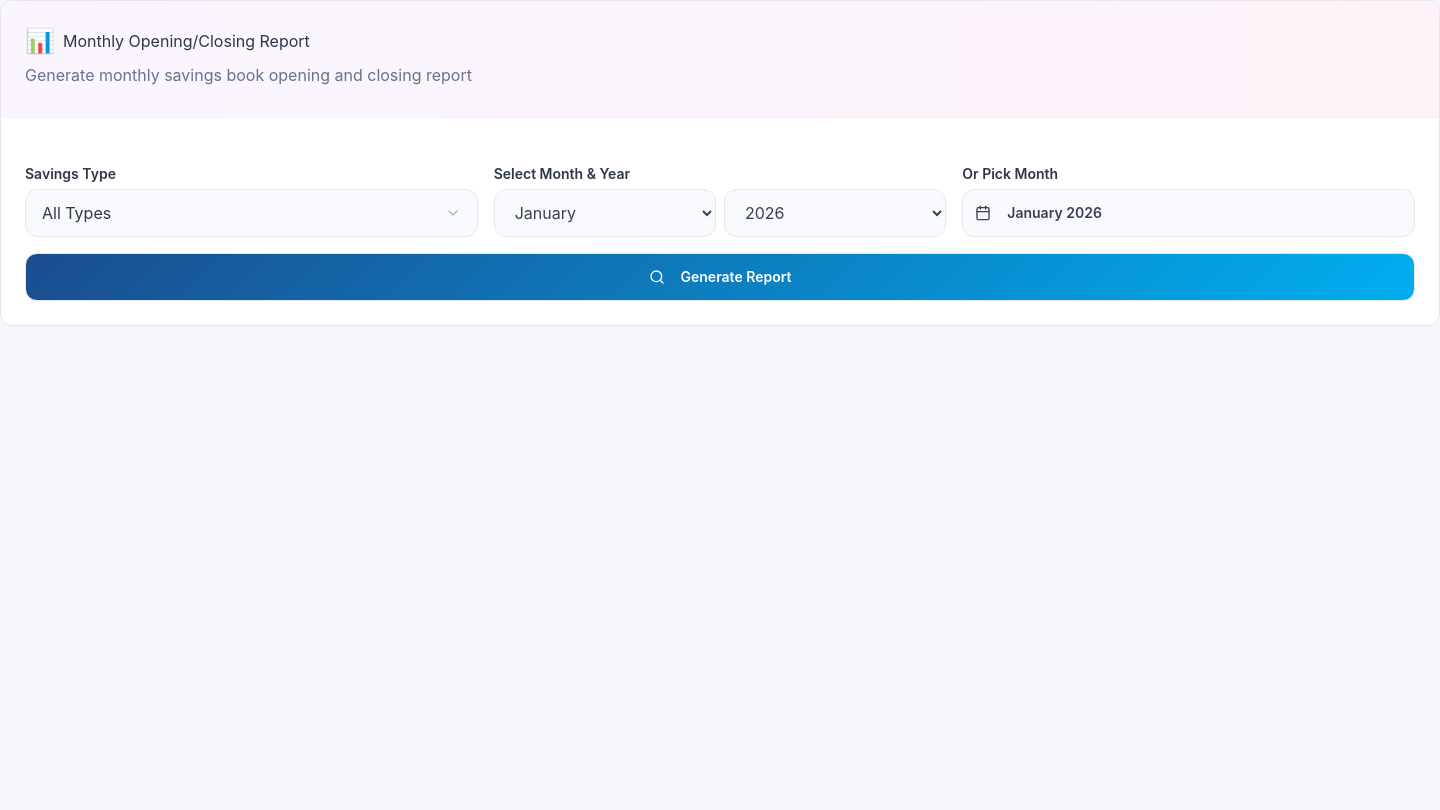
it: UC10 - Monthly Open/Close Report › C) Loading State › should disable Generate button while loading
The image size is (1440, 810).
Step 1. Click the button "Generate Report" → (720, 277), box x1=25 y1=253 x2=1415 y2=301
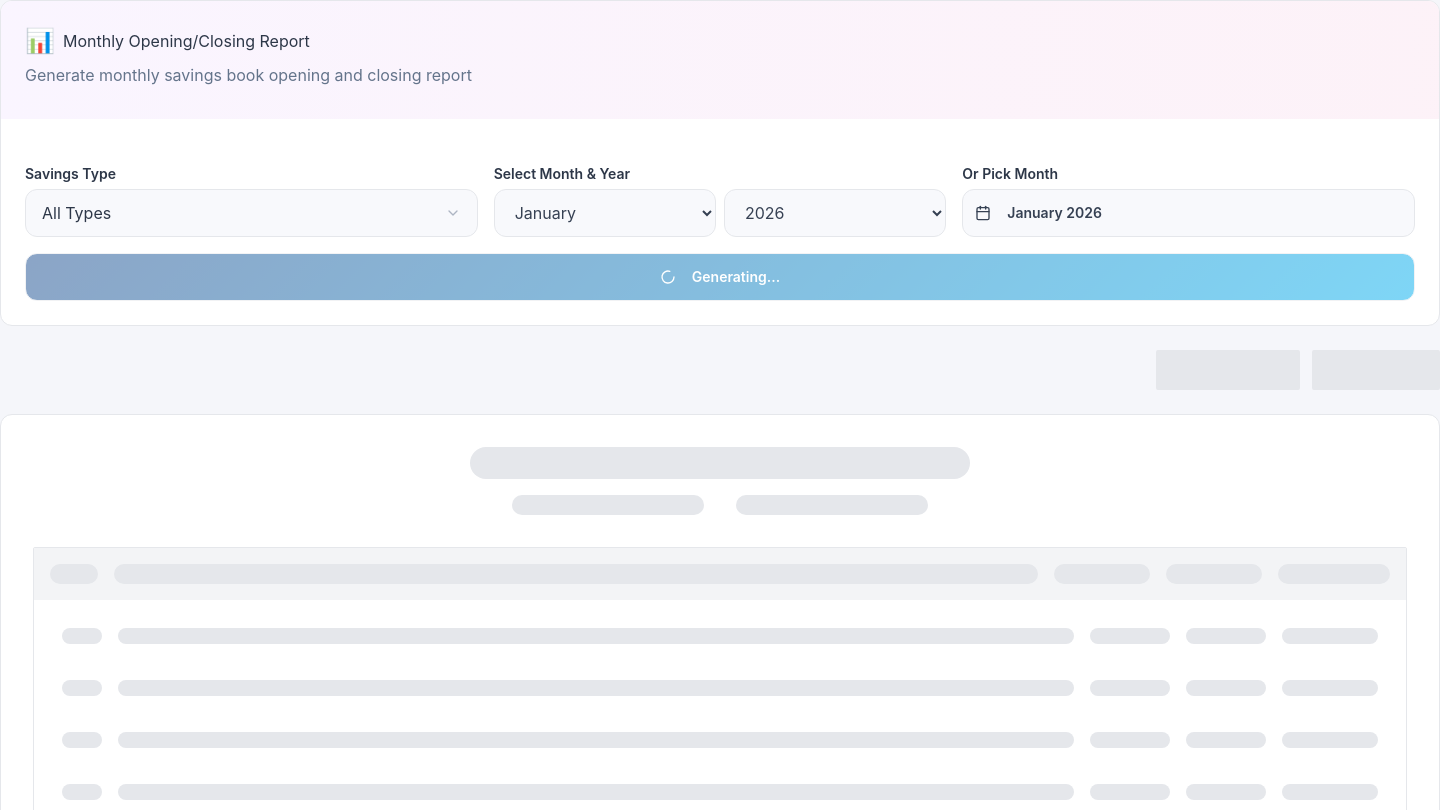
Expected: the button "Generating..." is disabled, x1=25 y1=253 x2=1415 y2=301
